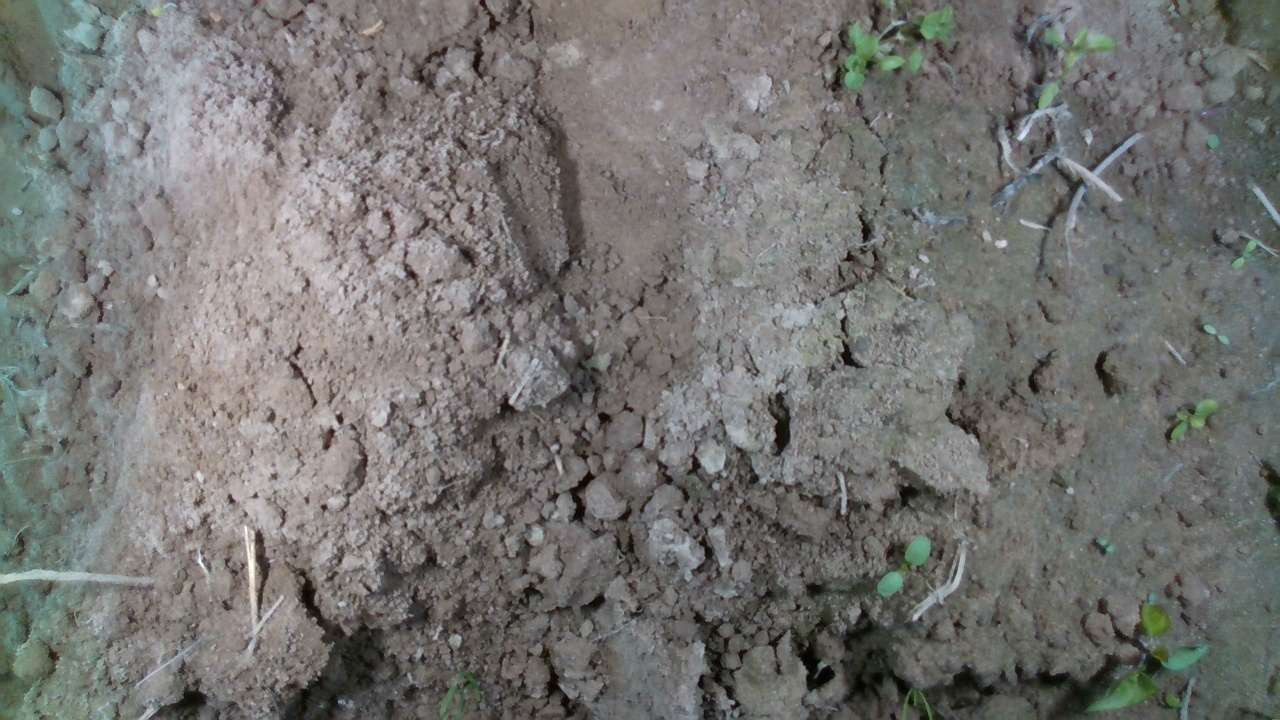weed: (875, 536, 930, 598), (1167, 396, 1220, 442), (1229, 236, 1257, 272)
